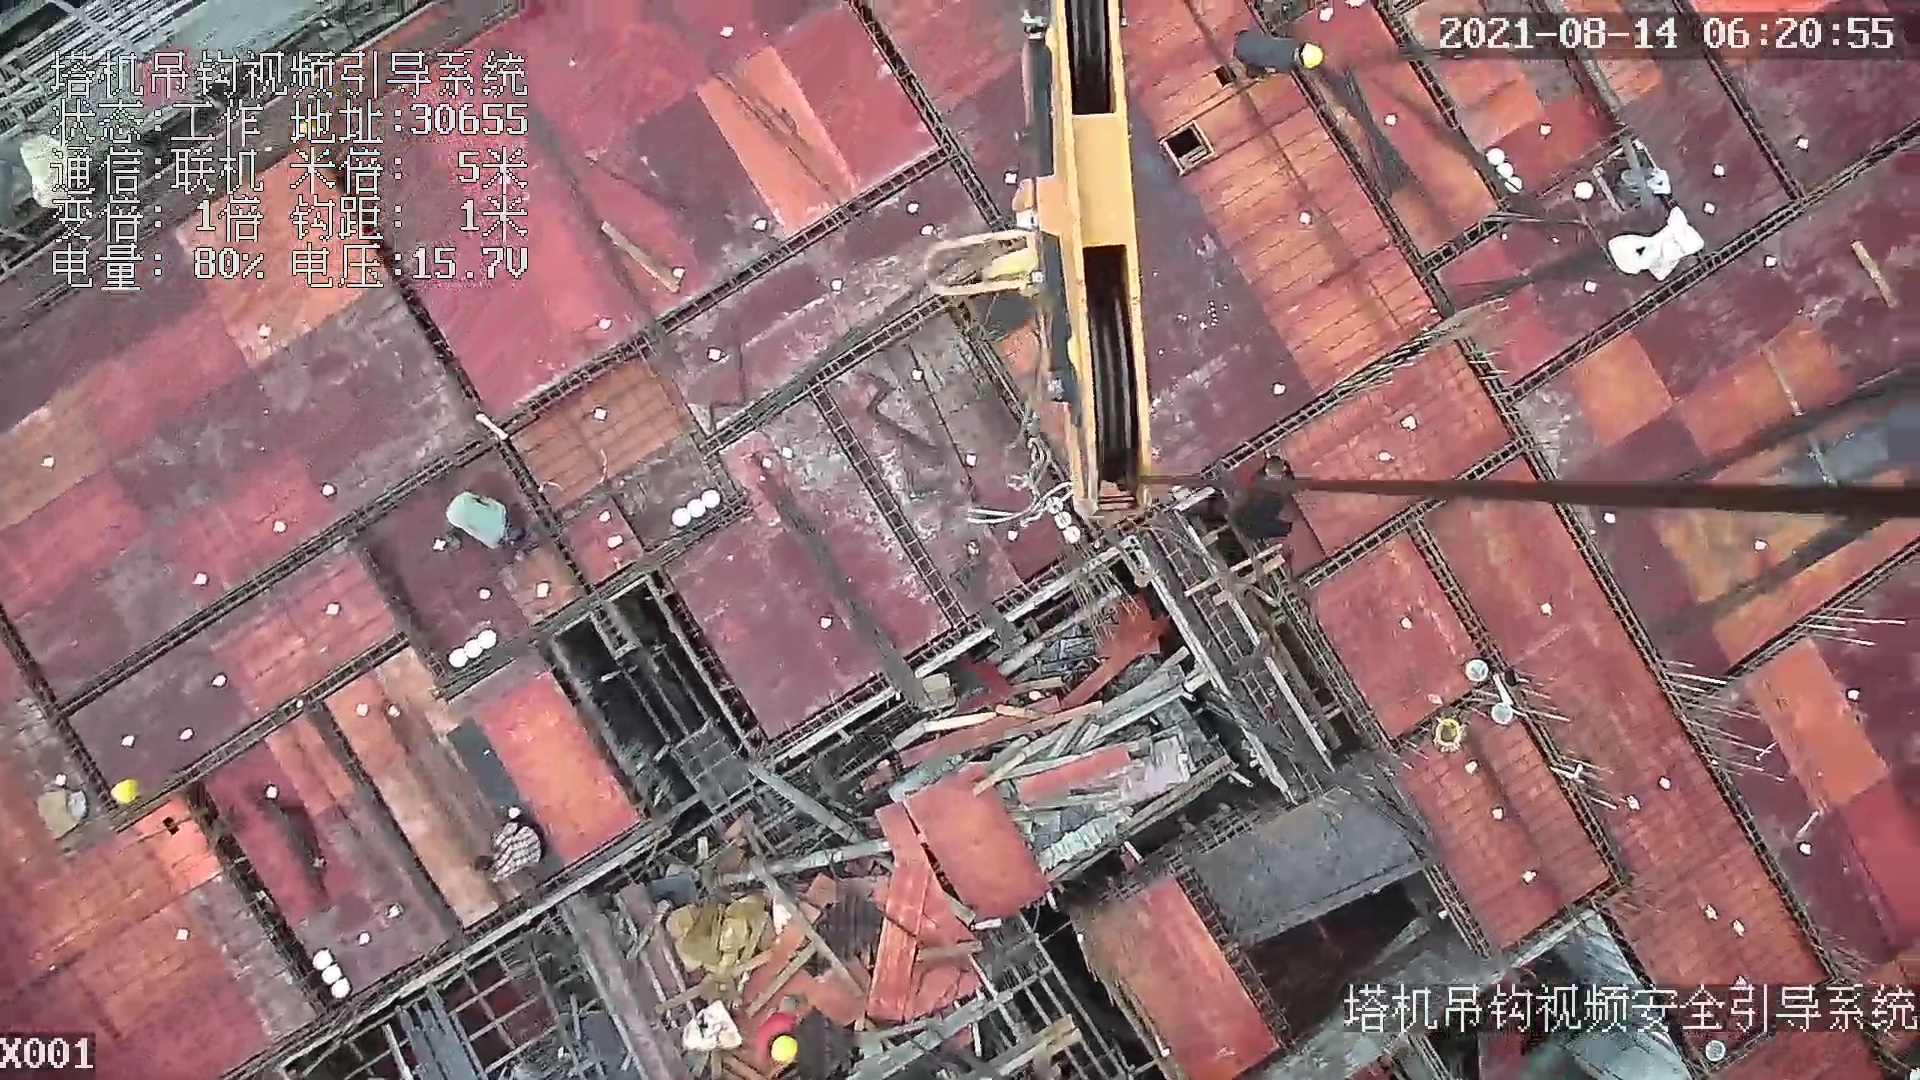helmet: (105, 776, 143, 806), (772, 1032, 799, 1067), (1298, 43, 1325, 72)
hook: (896, 1, 1163, 526)
person: (1231, 25, 1327, 84), (1231, 454, 1298, 538), (474, 810, 545, 887), (757, 994, 809, 1075)
